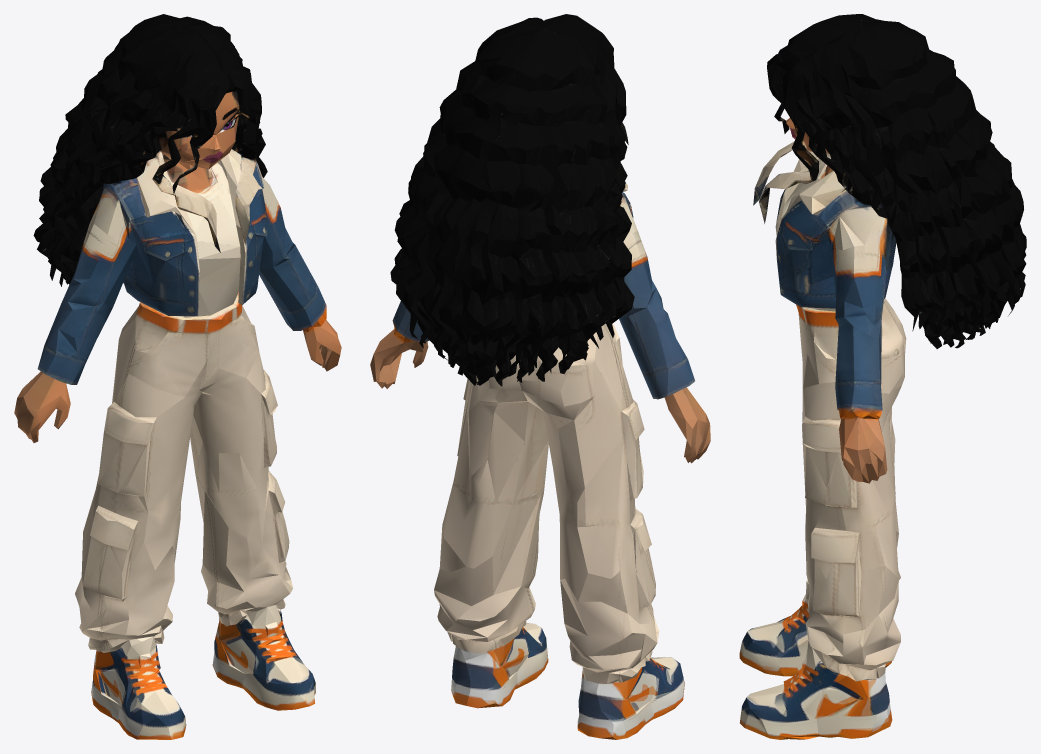
The model's file is maya_meshy_apose.glb.
3 renders of one model, left to right at view 1: azimuth 30°, elevation 25°; view 2: azimuth 150°, elevation 25°; view 3: azimuth 270°, elevation 25°, orthographic. The views are drawn at different scales.
Size of the model in its own units: 0.9479 by 1.9 by 0.732.
1 material, 1 textured.
